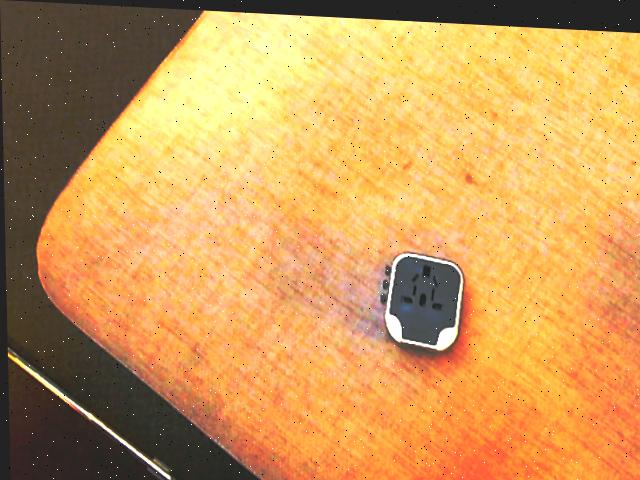adapter: (378, 246, 464, 348)
